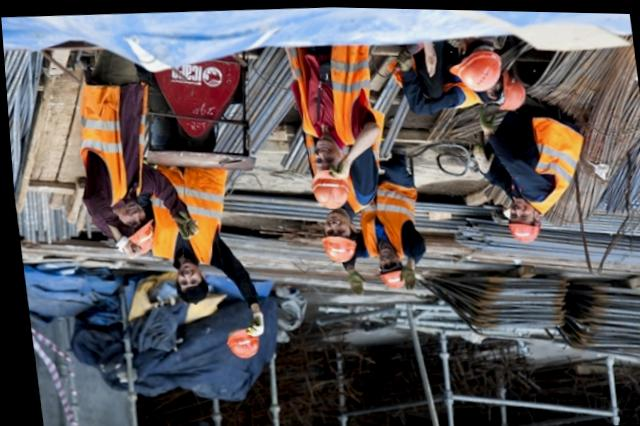helmet: (447, 50, 502, 89), (305, 160, 346, 207), (491, 69, 524, 114), (217, 324, 260, 358), (111, 221, 155, 254), (317, 231, 355, 264), (498, 215, 535, 242), (371, 265, 403, 287)
vest: (60, 70, 153, 208), (286, 33, 372, 145), (138, 159, 226, 267), (504, 111, 581, 210), (350, 177, 410, 259), (396, 74, 478, 105), (329, 170, 362, 214)
